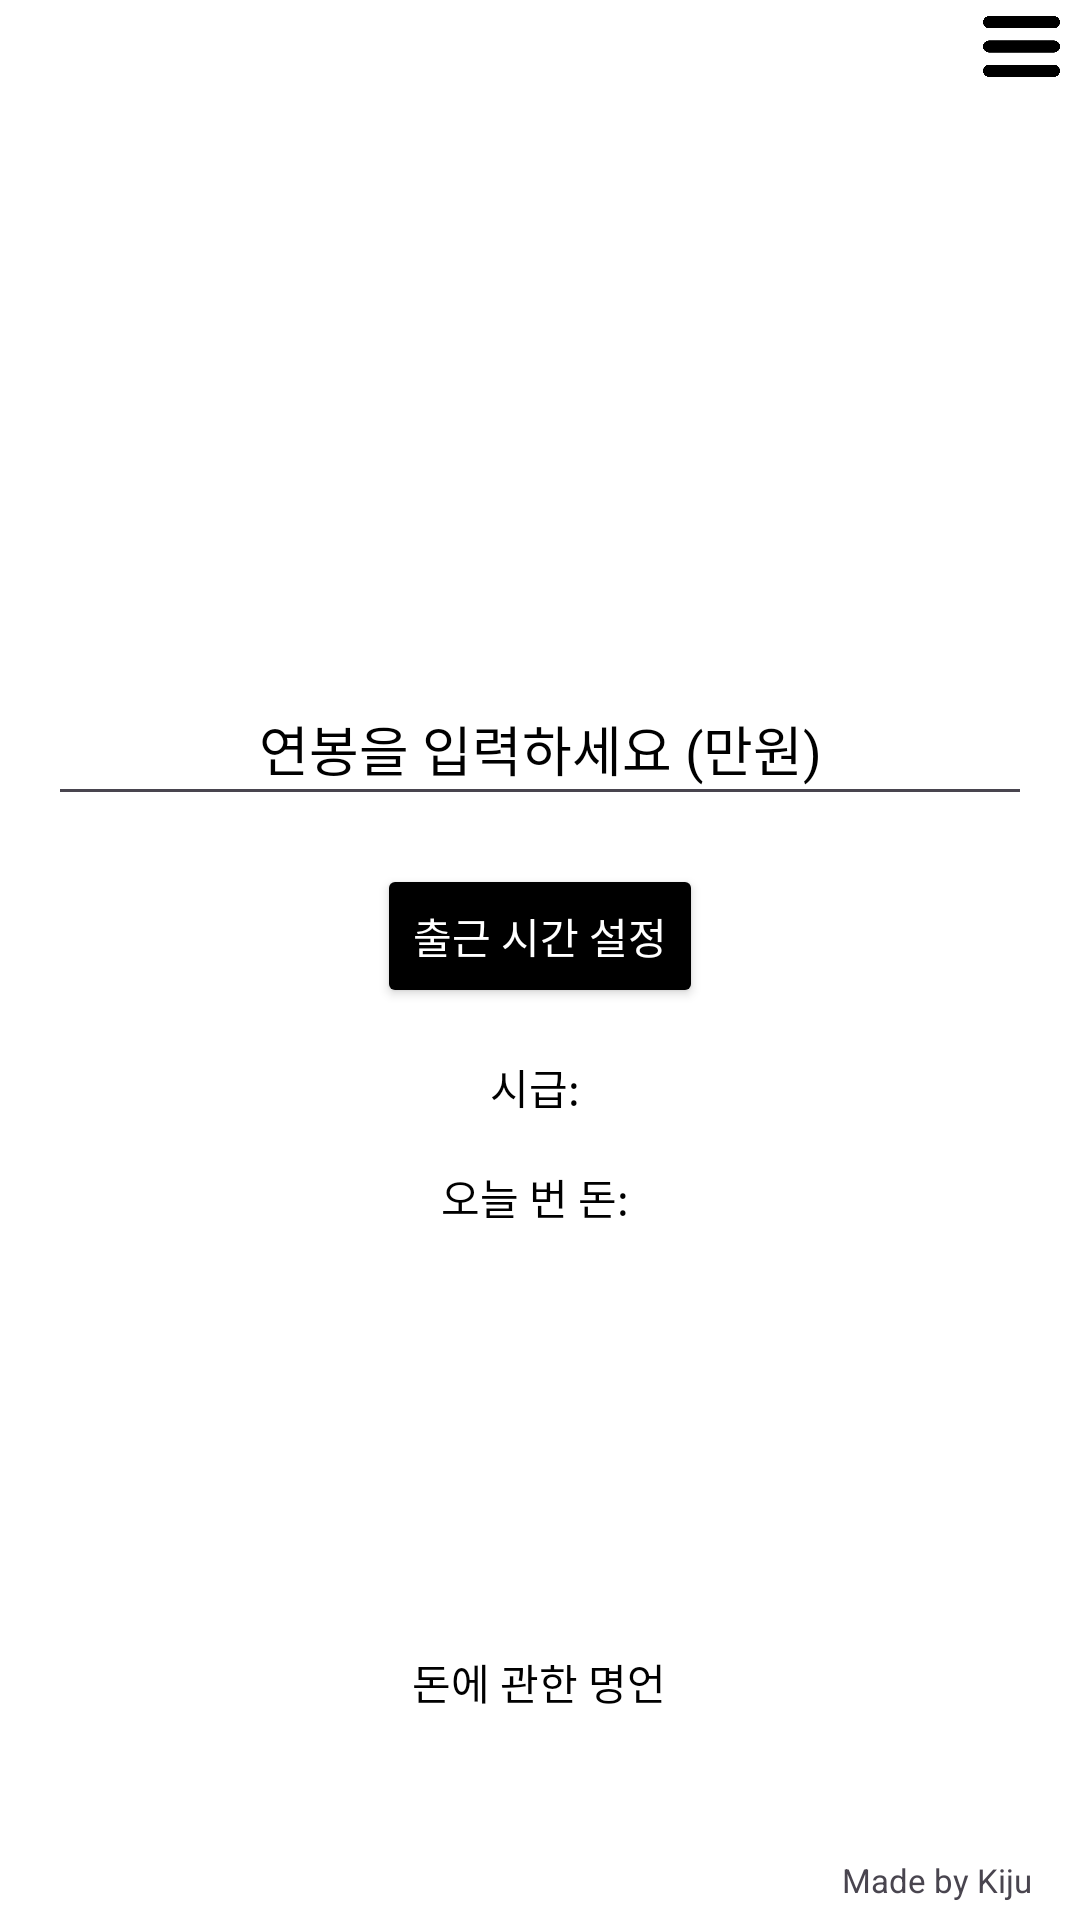

Named icons in this screenshot (1080×1920) and their centers, [x,y]:
메뉴 버튼: [1021,46]
